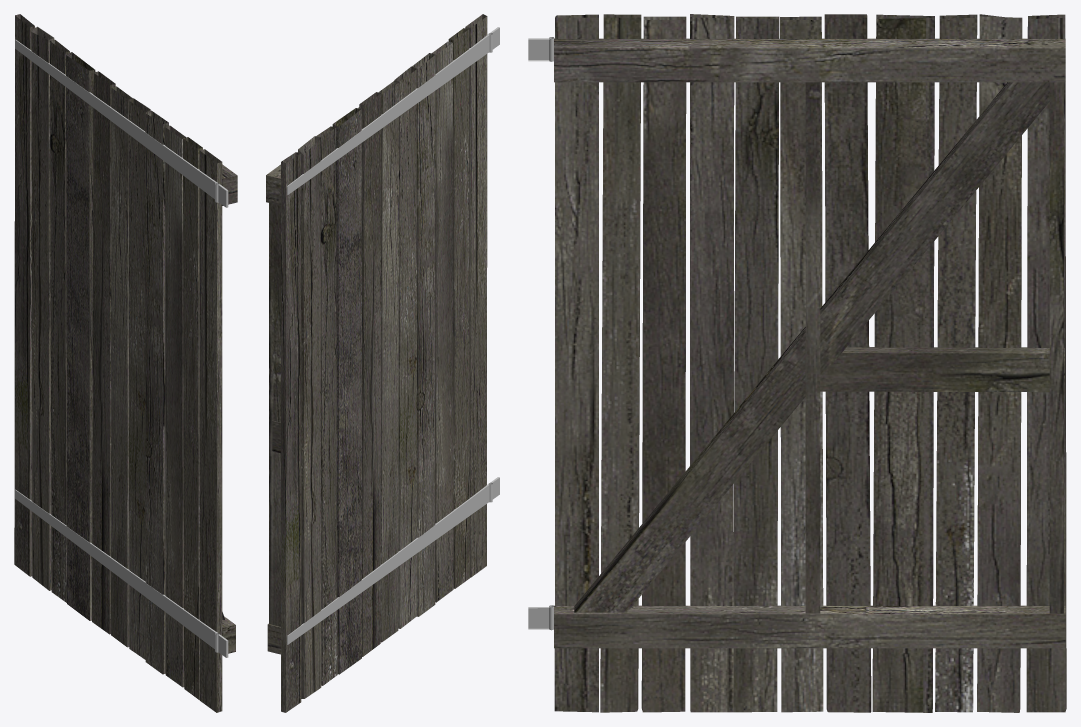
Rendered from Gate_A.fbx.
3 views of the same model, side by side, from view 1: azimuth 30°, elevation 25°; view 2: azimuth 150°, elevation 25°; view 3: azimuth 270°, elevation 25° (orthographic). The views are drawn at different scales.
Parts seen in each view (by area): view 1: Gate_A; view 2: Gate_A; view 3: Gate_A.
Boxes of the visible parts, x1=… form: Gate_A: x1=14, y1=14, x2=237, y2=712; Gate_A: x1=266, y1=14, x2=499, y2=712; Gate_A: x1=528, y1=14, x2=1066, y2=712.
Bounding box in the file's own units: 12.33 × 281 × 197.
